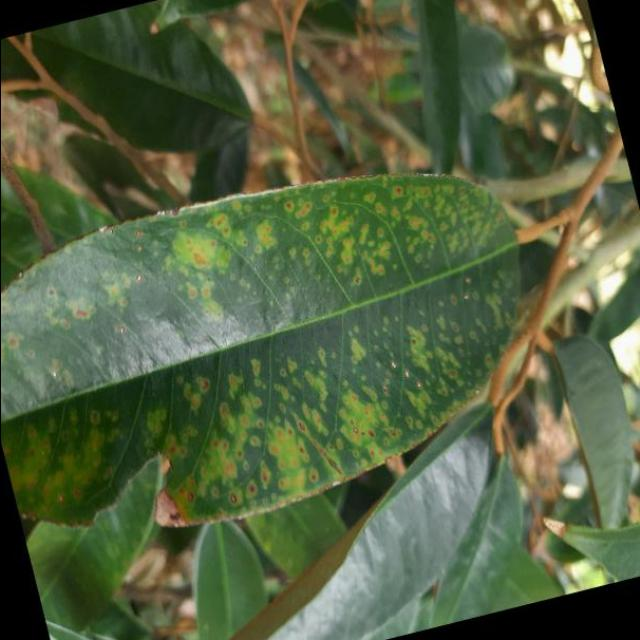Leaf Spot: (0, 111, 592, 585)
